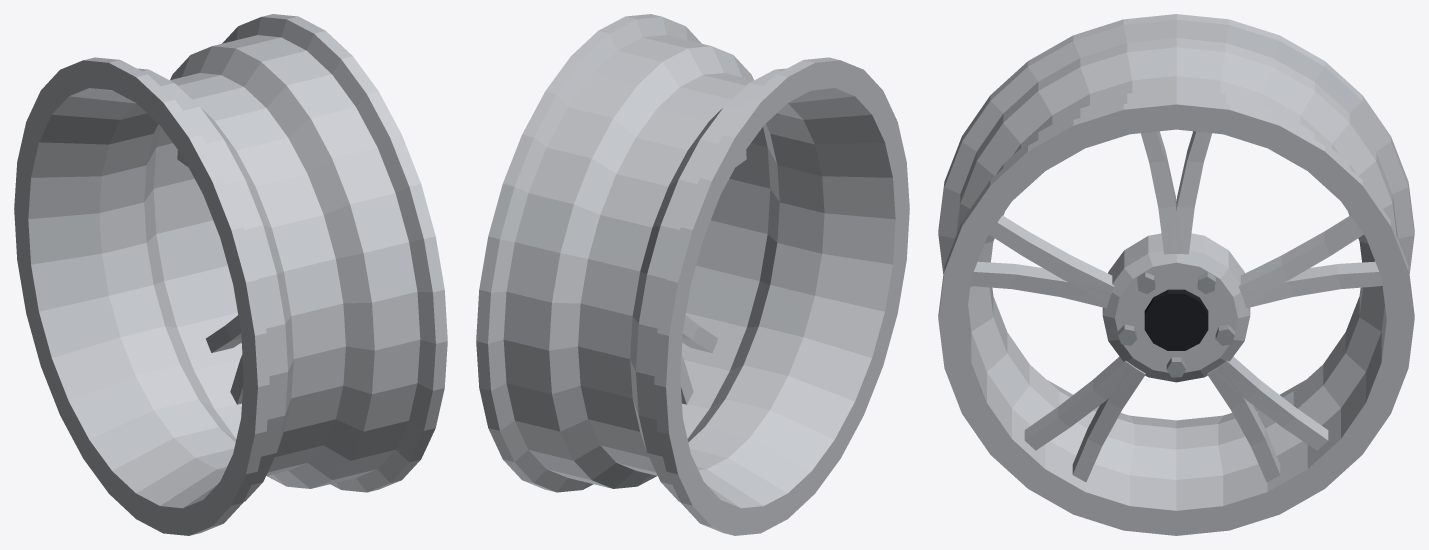
Rendered from rim_multispoke.glb.
3 renders of one model, left to right at view 1: azimuth 30°, elevation 25°; view 2: azimuth 150°, elevation 25°; view 3: azimuth 270°, elevation 25°, orthographic. The views are drawn at different scales.
Visible parts, largest first — view 1: model; view 2: model; view 3: model.
Part boxes in pixels (x1,y1,x2,y2): model: (14, 14, 447, 535); model: (476, 14, 909, 535); model: (938, 14, 1414, 535).
Bounding box in the file's own units: 0.2155 × 0.4638 × 0.4638.
3 materials, 1 textured.
